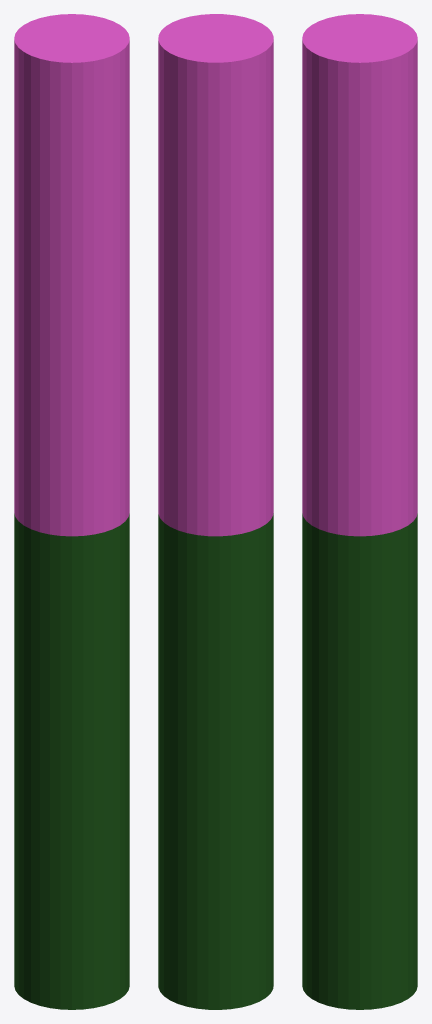
Rendered from Bond3D.fbx.
The picture shows the model from 3 angles, left to right: view 1: azimuth 90°, elevation 25°; view 2: azimuth 150°, elevation 25°; view 3: azimuth 270°, elevation 25°; orthographic projection.
Visible parts, largest first — view 1: Bond3D; view 2: Bond3D; view 3: Bond3D.
Part boxes in pixels (x1,y1,x2,y2): Bond3D: [14, 14, 129, 1009]; Bond3D: [158, 14, 273, 1009]; Bond3D: [302, 14, 417, 1009].
Size of the model in its own units: 12 by 108 by 12.
